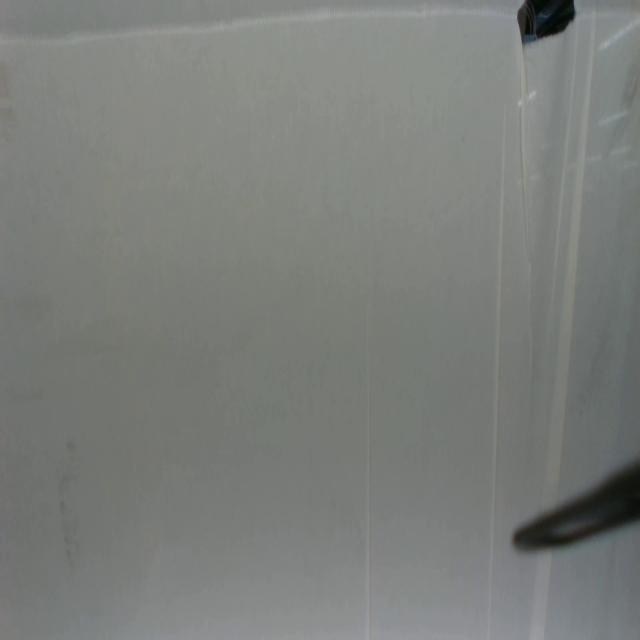hole: (516, 0, 578, 45)
